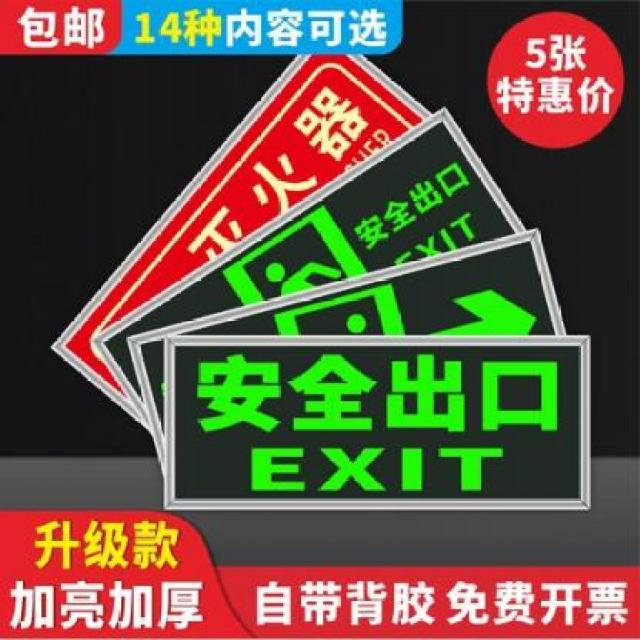exit_sign: (156, 329, 600, 526)
